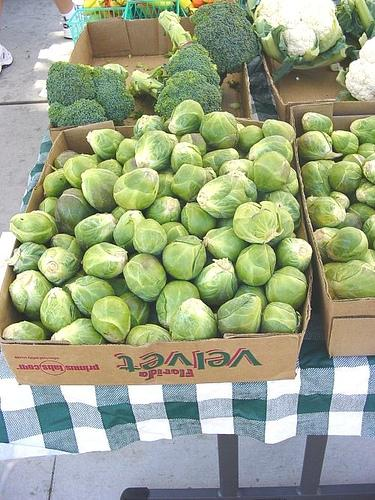banana: (83, 0, 104, 16), (96, 0, 113, 19), (110, 1, 122, 14), (179, 0, 193, 10), (83, 0, 97, 8), (188, 7, 198, 16)
broccoli: (46, 60, 135, 124), (158, 11, 224, 96), (189, 1, 260, 75), (130, 69, 223, 121), (47, 98, 108, 128)
brussels sprouts: (196, 171, 257, 219), (155, 279, 201, 332), (9, 270, 56, 321), (232, 200, 284, 244), (194, 257, 238, 309), (55, 188, 99, 238), (39, 287, 86, 333), (169, 298, 218, 341), (113, 168, 160, 212), (123, 254, 166, 302), (65, 276, 115, 317), (162, 235, 206, 281), (216, 292, 262, 336), (264, 265, 308, 310), (91, 296, 131, 344), (247, 150, 291, 193), (234, 243, 276, 287), (202, 224, 250, 262), (10, 210, 60, 246), (74, 213, 120, 252), (82, 168, 120, 214), (135, 130, 176, 171), (332, 260, 375, 299), (83, 242, 128, 279), (38, 247, 80, 286), (199, 111, 240, 150), (325, 226, 368, 262), (264, 190, 302, 230), (244, 135, 294, 165), (51, 318, 108, 344), (113, 210, 146, 254), (170, 163, 207, 202), (297, 130, 344, 160), (181, 202, 217, 241), (259, 302, 302, 334), (132, 218, 168, 256), (274, 237, 312, 273), (302, 159, 336, 199), (306, 196, 347, 229), (6, 242, 48, 274), (86, 128, 126, 161), (168, 99, 204, 135), (63, 154, 98, 190), (118, 292, 151, 330), (266, 208, 294, 250), (202, 148, 240, 178), (328, 161, 362, 194), (126, 324, 172, 347), (146, 196, 182, 225), (49, 233, 85, 262), (171, 142, 203, 174), (3, 320, 54, 340), (43, 167, 74, 198), (314, 227, 340, 262), (262, 119, 296, 145), (156, 165, 180, 200), (133, 115, 165, 141), (324, 262, 346, 299), (238, 125, 265, 155), (331, 130, 359, 157), (350, 115, 374, 146), (302, 112, 332, 136), (115, 138, 139, 168), (180, 132, 207, 158), (218, 158, 252, 178), (346, 203, 375, 226), (279, 167, 300, 198), (162, 222, 190, 245), (104, 272, 130, 296), (356, 178, 374, 208), (96, 158, 122, 178), (362, 214, 375, 250), (361, 153, 375, 184), (340, 212, 364, 230), (329, 192, 350, 211), (38, 197, 57, 218), (343, 154, 366, 168), (122, 156, 138, 175), (356, 142, 374, 158), (360, 249, 375, 267), (204, 166, 217, 184), (111, 206, 127, 219), (236, 148, 248, 159)
cauliflower: (245, 0, 356, 84), (336, 24, 375, 102)
